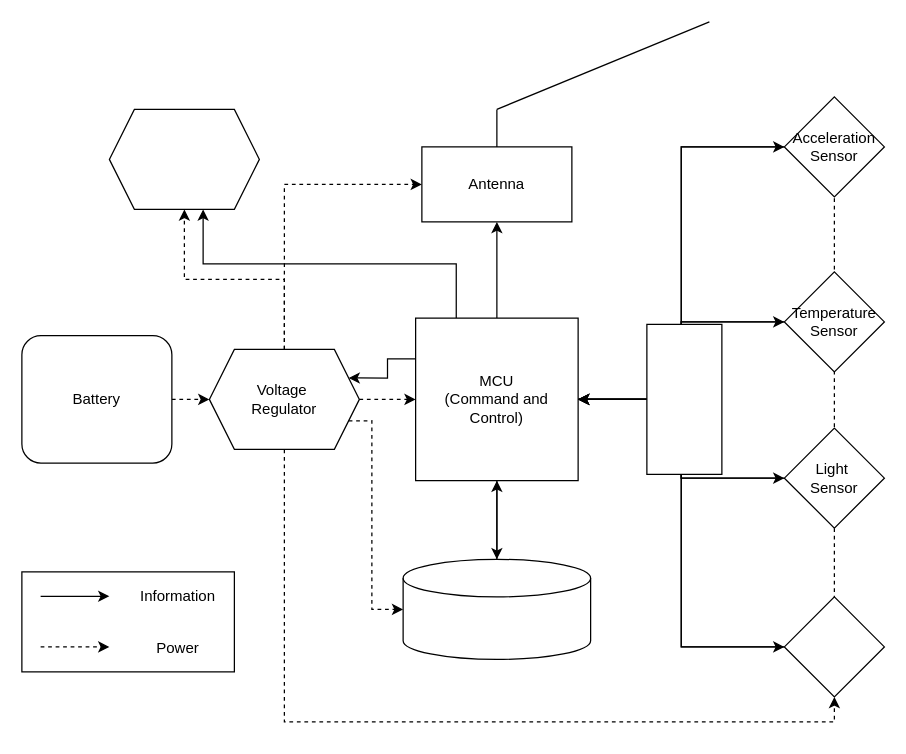
This 906x754 diagram has some shape labels left out. The centre of each missing label's shape, as x and y in pixels:
"Communication Bus" belongs at (684,398).
"Data Storage" belongs at (496,608).
"Pressure Sensor" belongs at (833,646).
"Release Mechanism" belongs at (183,158).
